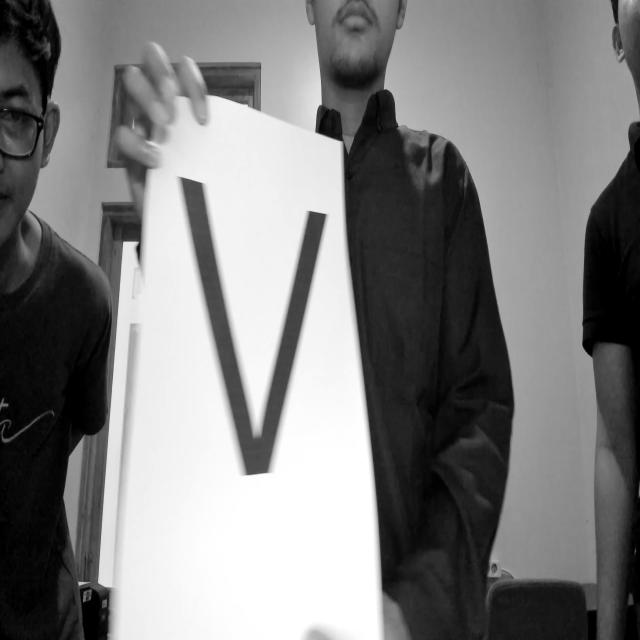v: (170, 151, 338, 488)
